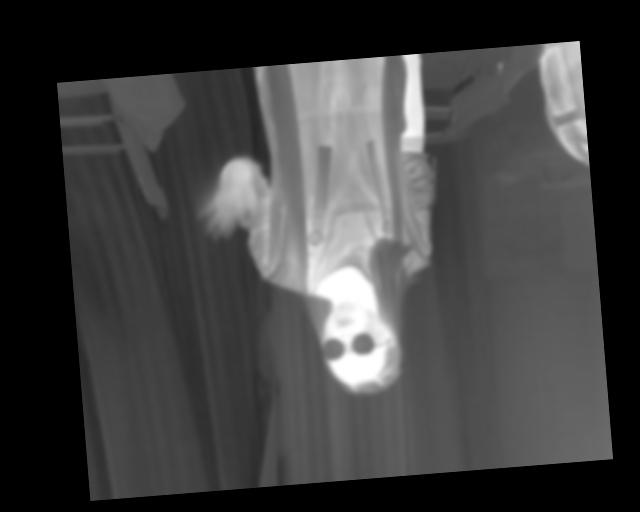face: (317, 295, 401, 397)
